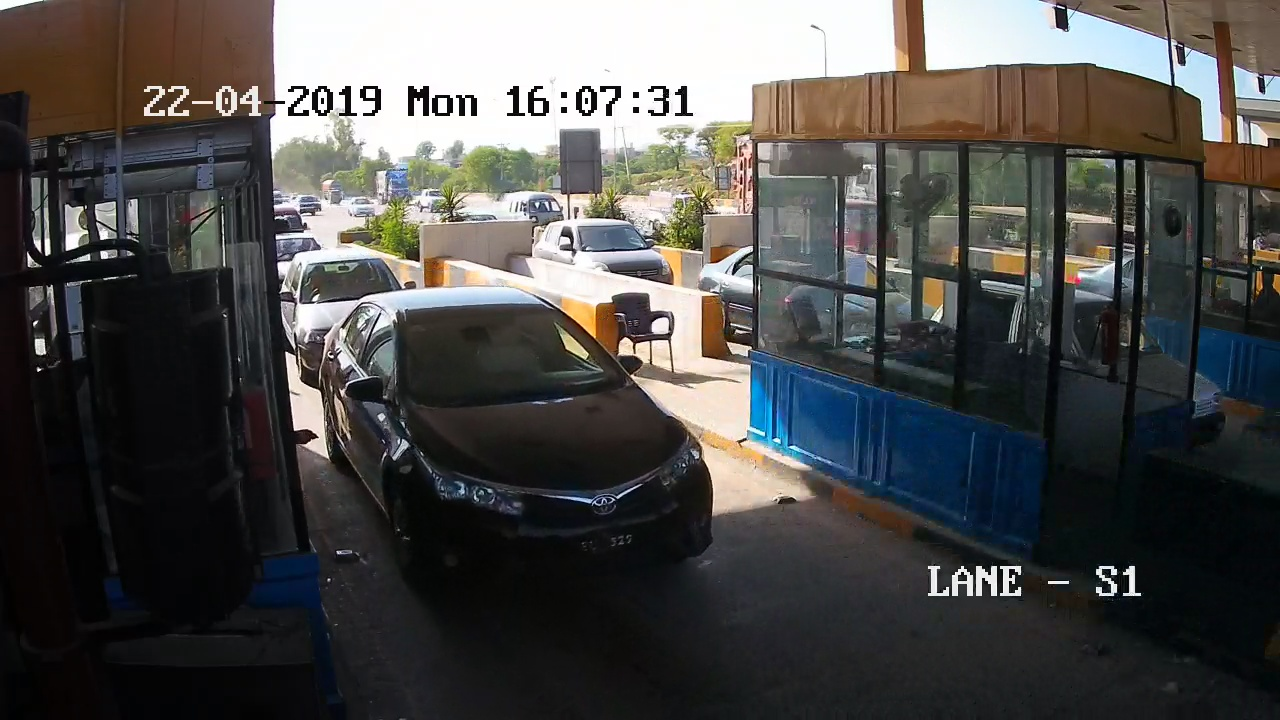Number Plate (Car): (565, 532, 641, 552)
